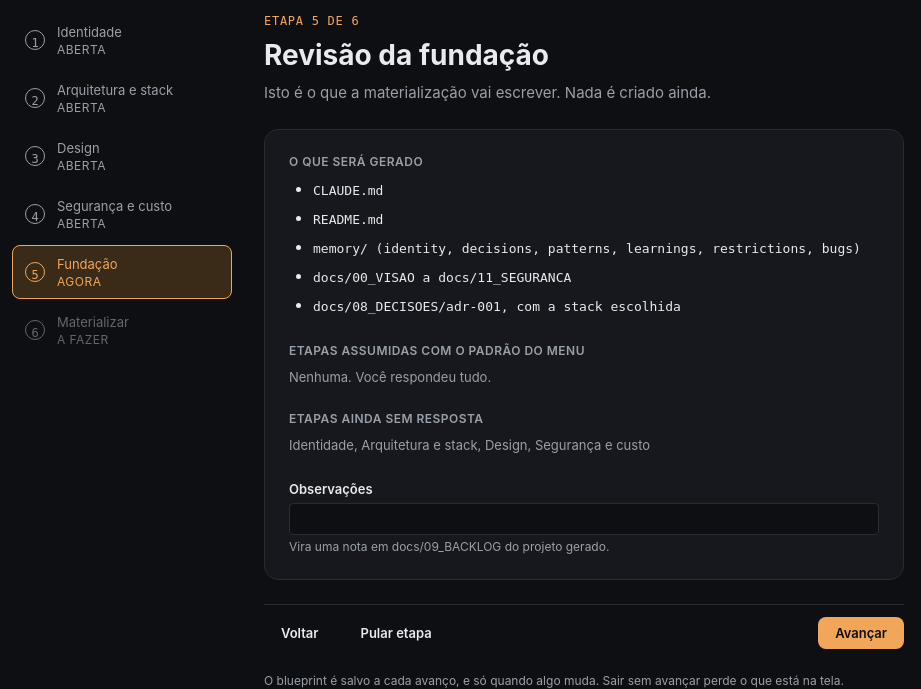
it: motor de regras no wizard › avançar da etapa anterior a Materializar explica o bloqueio, salva e não navega
The width and height of the screenshot is (921, 689).
(page scrolled)
Click the button "Avançar" at x=861, y=633, box [818,617,904,649]
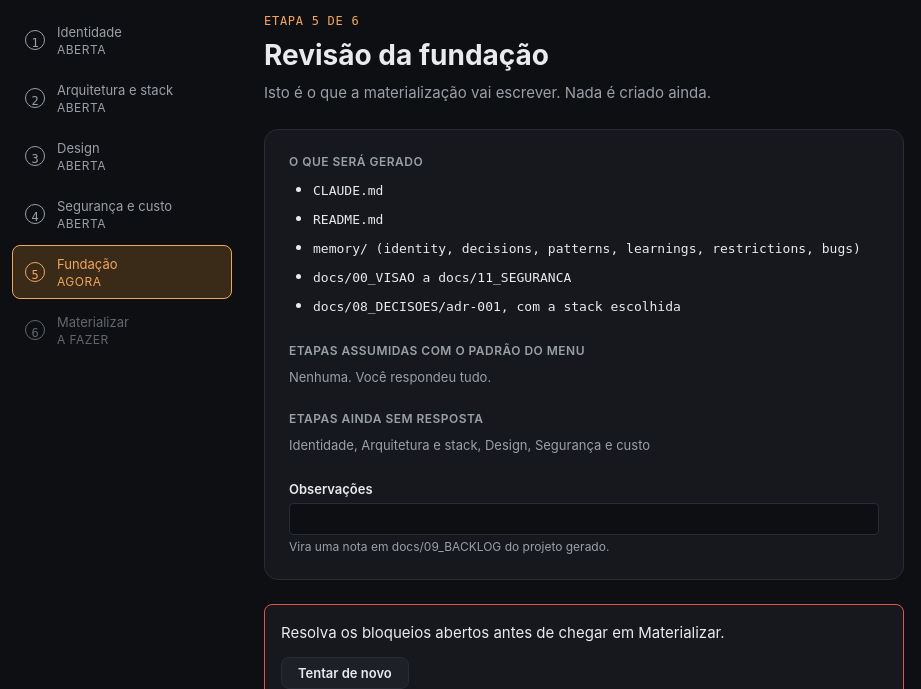
Check: the heading "Revisão da fundação" is shown, box [264,38,549,72]
Check: the message shows "Resolva os bloqueios abertos antes de chegar em Materializar.", box [281,623,725,642]
